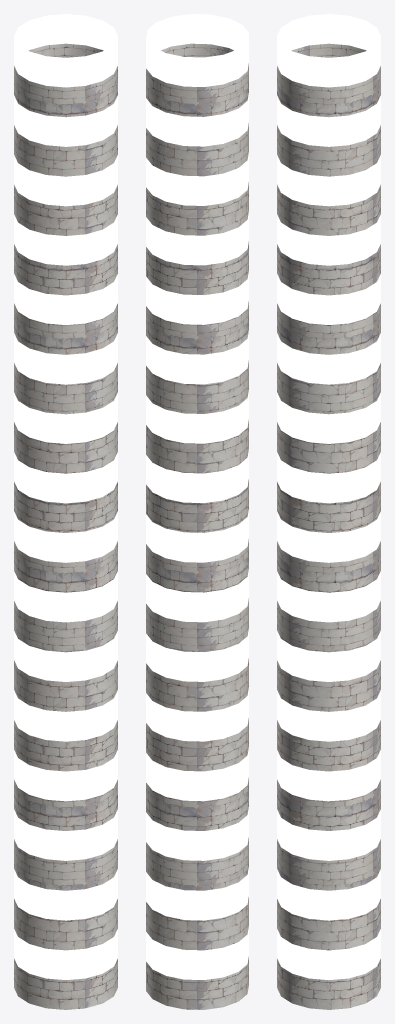
File: drop.glb
3 views of the same model, side by side, from view 1: azimuth 90°, elevation 25°; view 2: azimuth 210°, elevation 25°; view 3: azimuth 270°, elevation 25° (orthographic).
Parts seen in each view (by area): view 1: drop; view 2: drop; view 3: drop.
Boxes of the visible parts, x1,y1,x2,y2 form: drop: (14,14,117,1009); drop: (146,14,248,1009); drop: (277,14,380,1009).
Size of what is drawn, in the model's own units: 7.48 by 75.75 by 7.48.
Materials: 2 (1 with a texture image).
